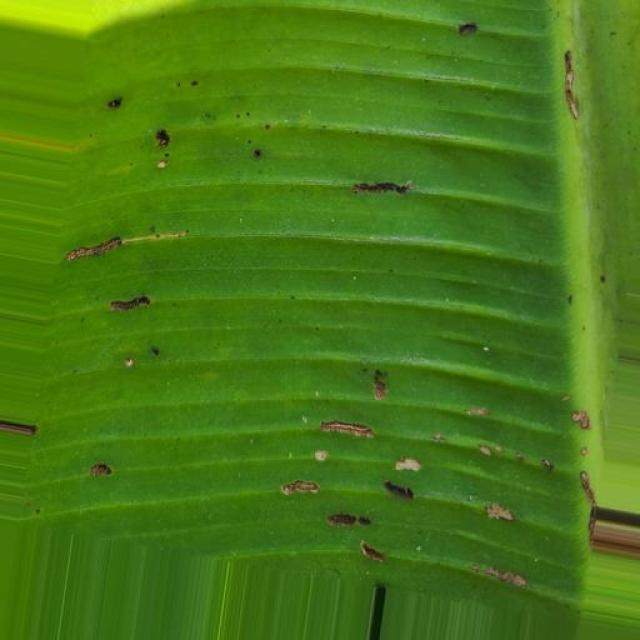Black_rot: (65, 15, 640, 631)
